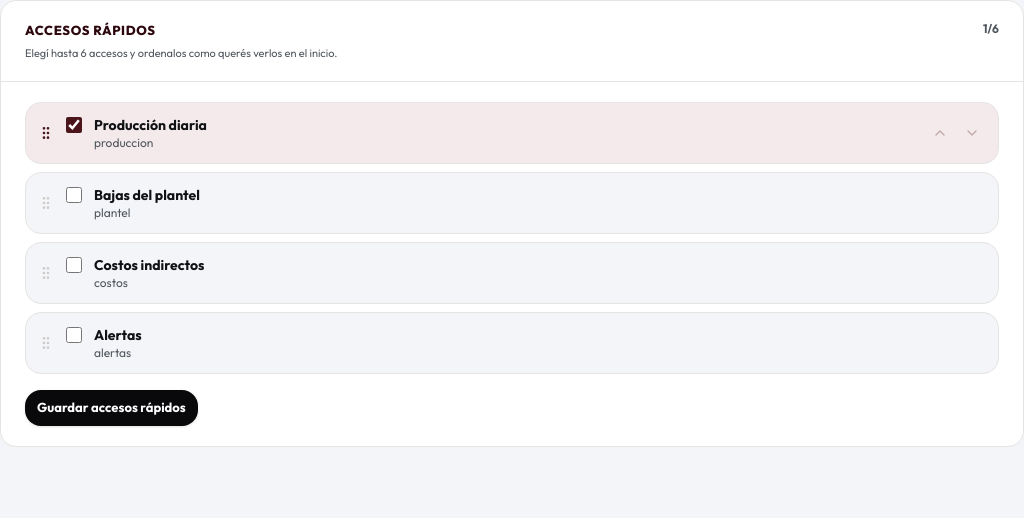
Test: accesos rápidos configurables › muestra la clave rechazada por el 422 y conserva la selección local
What coordinates should you click on to do the following:
click the checkbox labelled "Alertas"
I would click on:
 (74, 335)
Its box is [66,327,82,343].
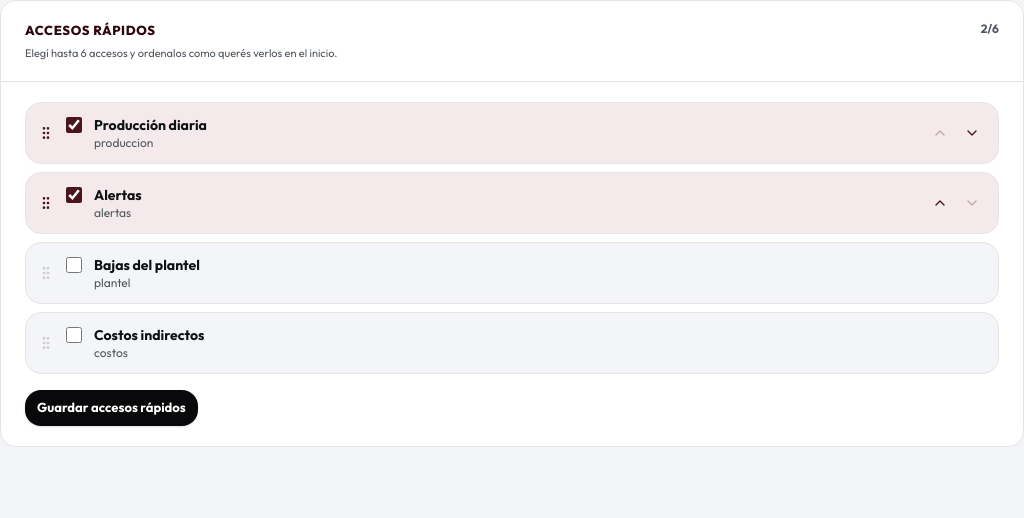
What coordinates should you click on to do the following:
click the button "Guardar accesos rápidos"
I would click on:
 (111, 408)
Its box is [25,390,198,426].
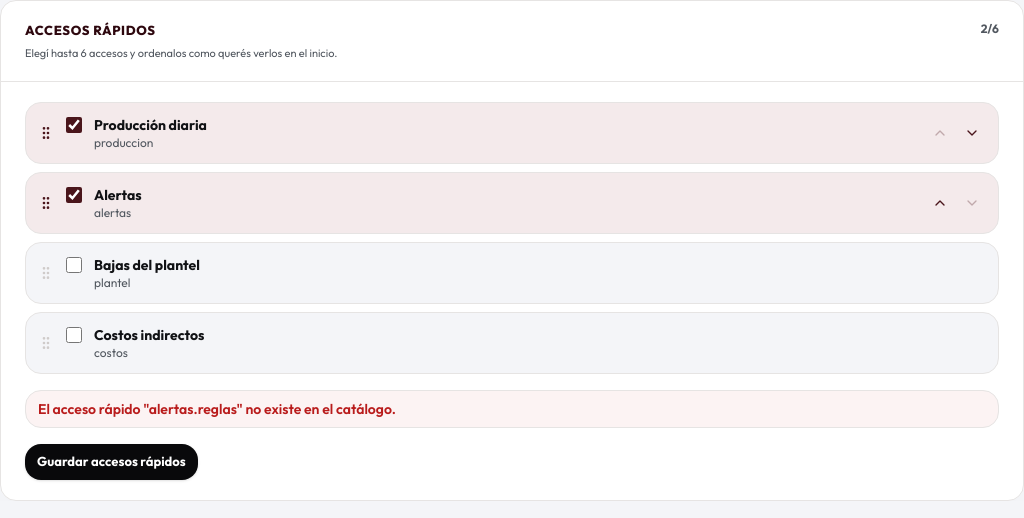
Check: the checkbox labelled "Alertas" is checked, box [66,187,82,203]
Check: the message shows "alertas.reglas", box [38,400,396,418]
